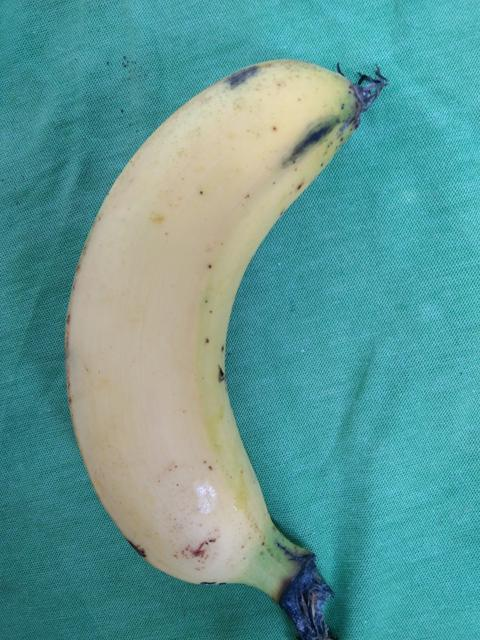freshripe: (55, 49, 376, 594)
